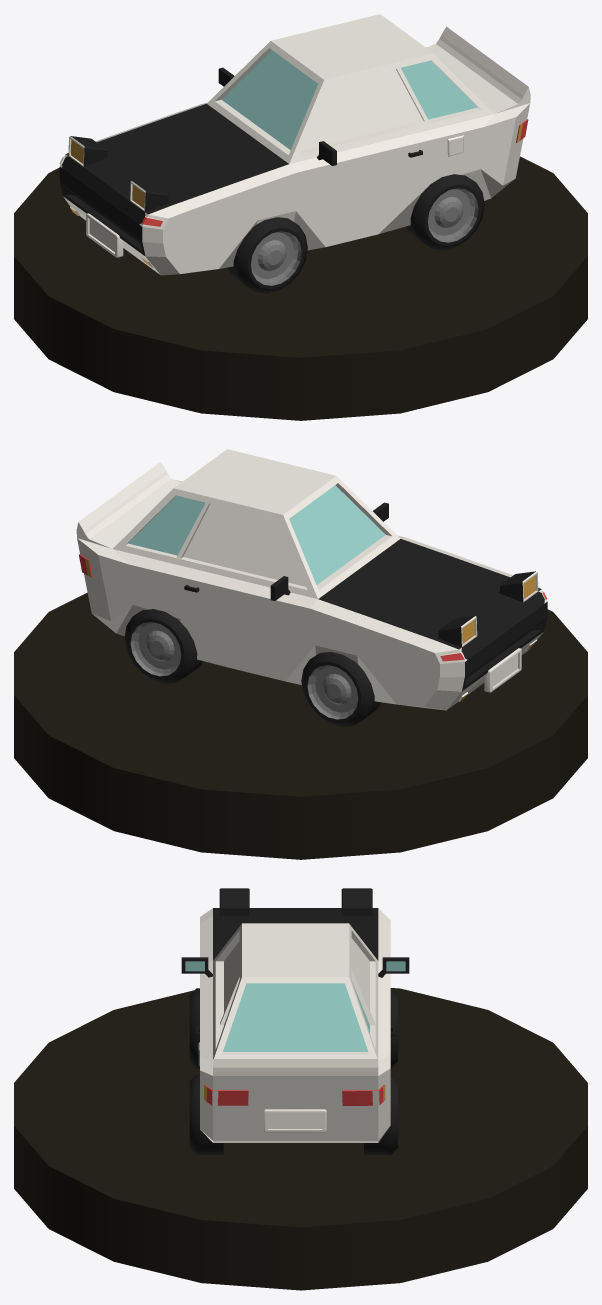
The picture shows the model from 3 angles, top to bottom: view 1: azimuth 30°, elevation 25°; view 2: azimuth 150°, elevation 25°; view 3: azimuth 270°, elevation 25°; orthographic projection.
Parts seen in each view (by area): view 1: Cylinder008, Box001, Cylinder007, Cylinder006, Box006; view 2: Cylinder008, Box001, Cylinder005, Cylinder002, Box006; view 3: Cylinder008, Box001, Box007, Cylinder006, Cylinder002, Cylinder007, Box003, Box002, Cylinder005.
Boxes of the visible parts, left/top/right/bottom form: Cylinder008: left=14, top=156, right=587, bottom=420; Box001: left=59, top=14, right=530, bottom=275; Cylinder007: left=227, top=217, right=307, bottom=293; Cylinder006: left=405, top=174, right=484, bottom=250; Box006: left=86, top=213, right=123, bottom=257; Cylinder008: left=14, top=592, right=587, bottom=859; Box001: left=76, top=449, right=547, bottom=710; Cylinder005: left=301, top=652, right=381, bottom=727; Cylinder002: left=124, top=609, right=203, bottom=684; Box006: left=484, top=648, right=521, bottom=692; Cylinder008: left=14, top=988, right=587, bottom=1290; Box001: left=198, top=888, right=390, bottom=1142; Box007: left=264, top=1109, right=326, bottom=1132; Cylinder006: left=189, top=1074, right=223, bottom=1155; Cylinder002: left=364, top=1075, right=397, bottom=1155; Cylinder007: left=189, top=988, right=199, bottom=1068; Box003: left=204, top=1084, right=248, bottom=1105; Box002: left=342, top=1084, right=385, bottom=1105; Cylinder005: left=390, top=988, right=397, bottom=1068.
Size of the model in its own units: 141 by 64.44 by 139.
